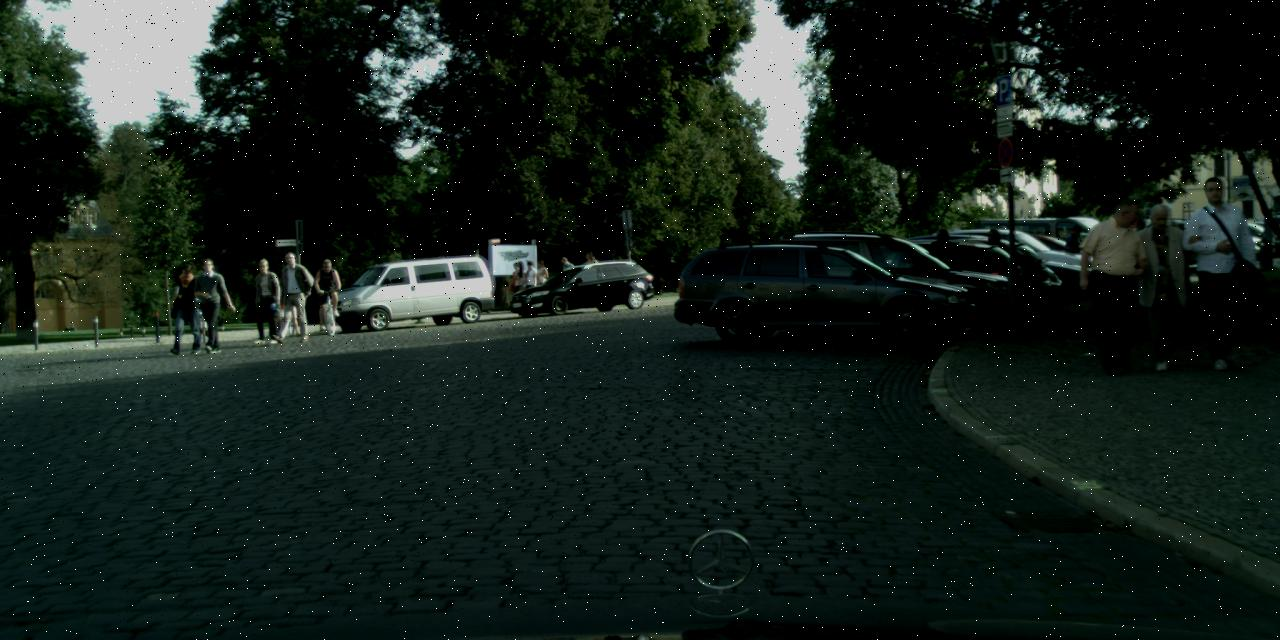ped: (1180, 176, 1258, 368), (1087, 197, 1158, 372), (1129, 202, 1197, 369), (191, 258, 229, 350), (167, 262, 204, 353), (272, 252, 308, 341), (247, 258, 282, 343), (926, 228, 960, 310), (980, 228, 1012, 307), (316, 259, 341, 322), (1060, 224, 1084, 284), (510, 260, 550, 294), (278, 287, 297, 332), (560, 255, 578, 302), (584, 251, 600, 263)
